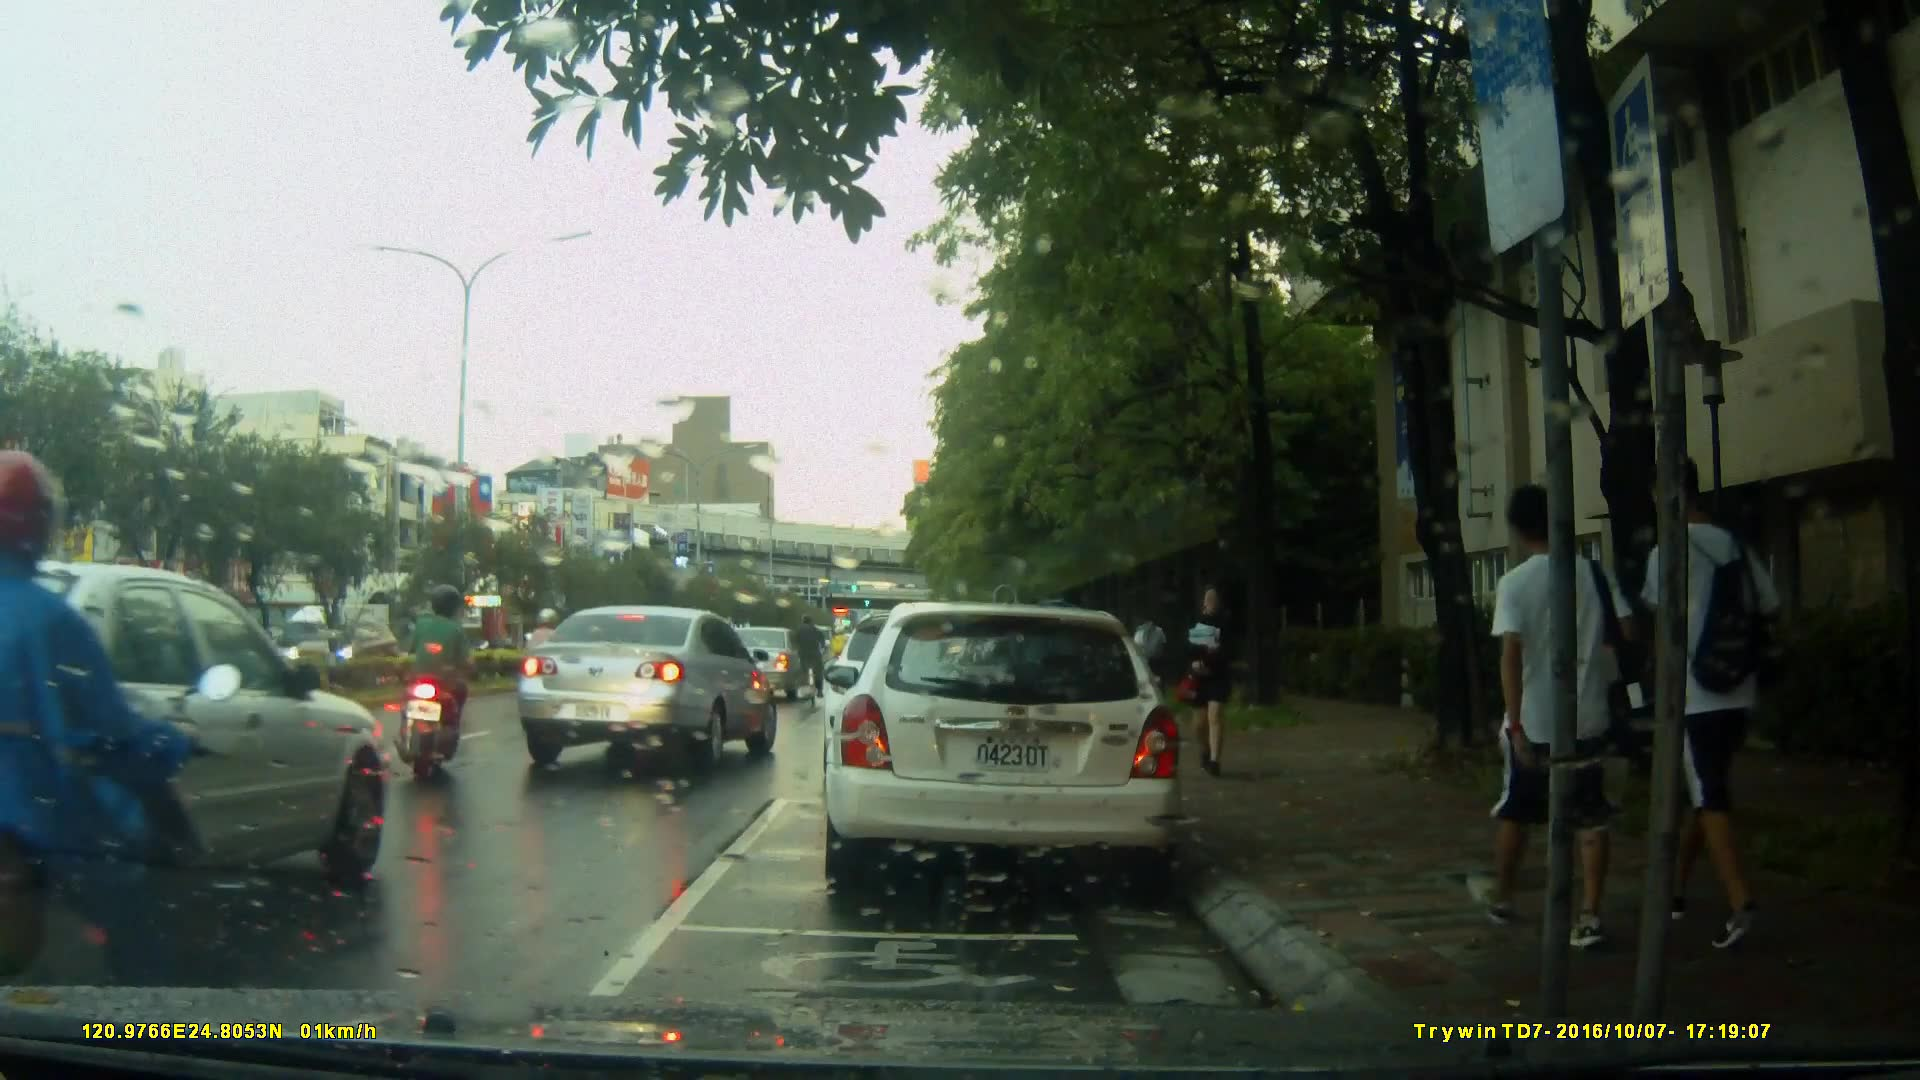pedestrian: (1468, 465, 1634, 950), (1631, 437, 1757, 940), (1177, 568, 1244, 783), (1131, 604, 1175, 732)
rider: (1, 447, 243, 1018), (404, 583, 483, 775), (519, 603, 562, 733), (787, 612, 821, 710), (831, 627, 853, 684)
vehicle: (1, 560, 398, 954), (820, 602, 1188, 898), (513, 602, 785, 774), (701, 625, 812, 703)
